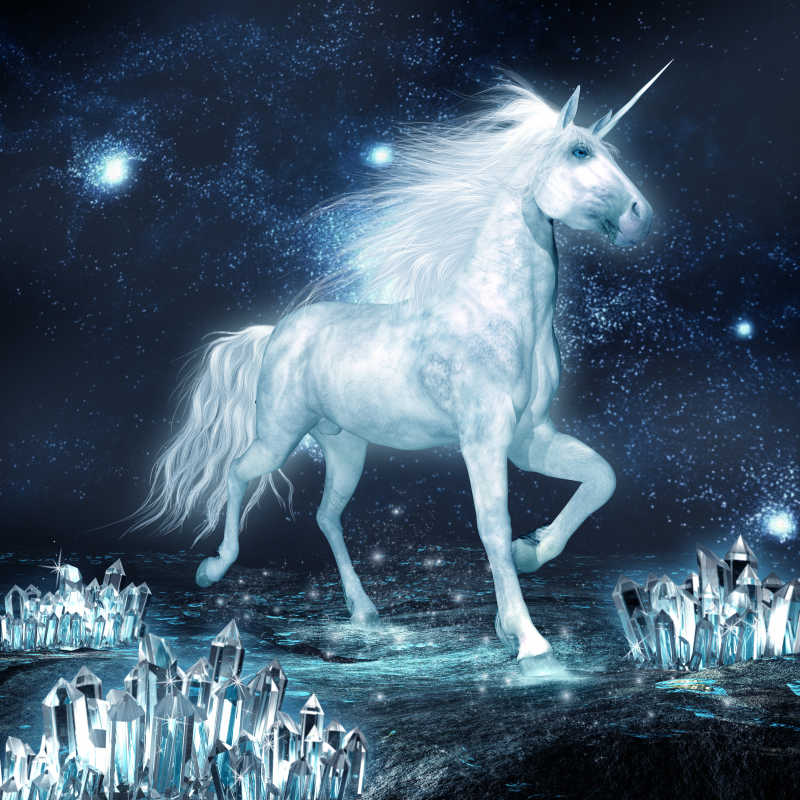background: (142, 45, 684, 689)
